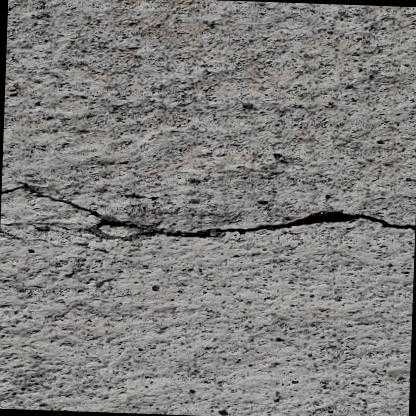crack: (0, 186, 415, 239)
